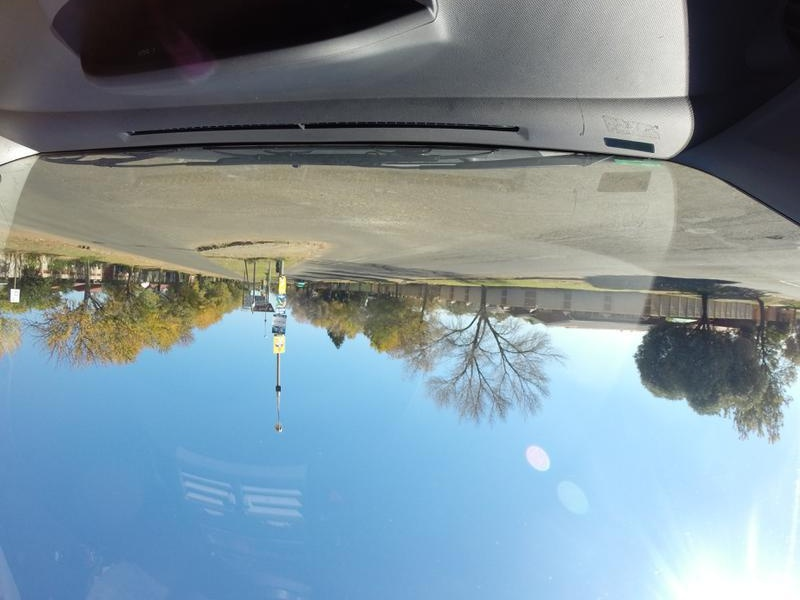pothole: (770, 234, 784, 241)
